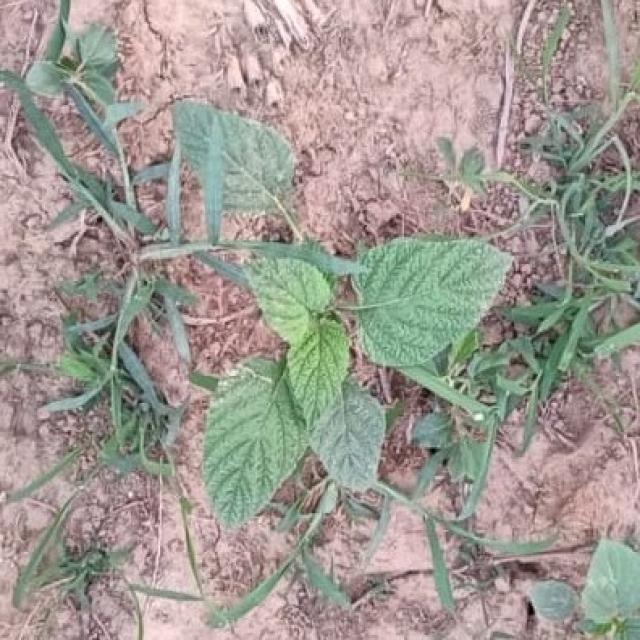weed: (204, 256, 385, 526), (354, 239, 511, 382), (173, 102, 299, 232), (582, 543, 640, 640)
